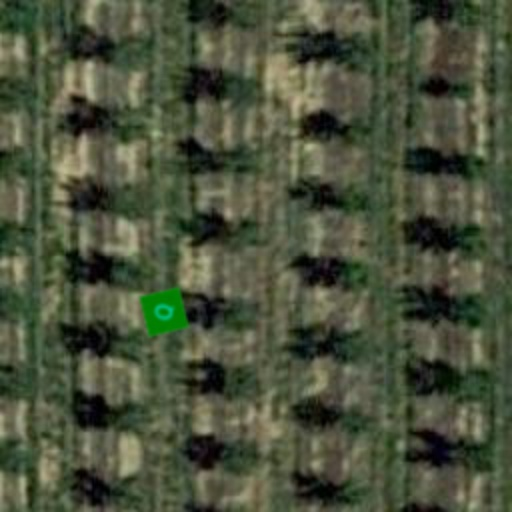rectangle: (138, 286, 190, 338)
